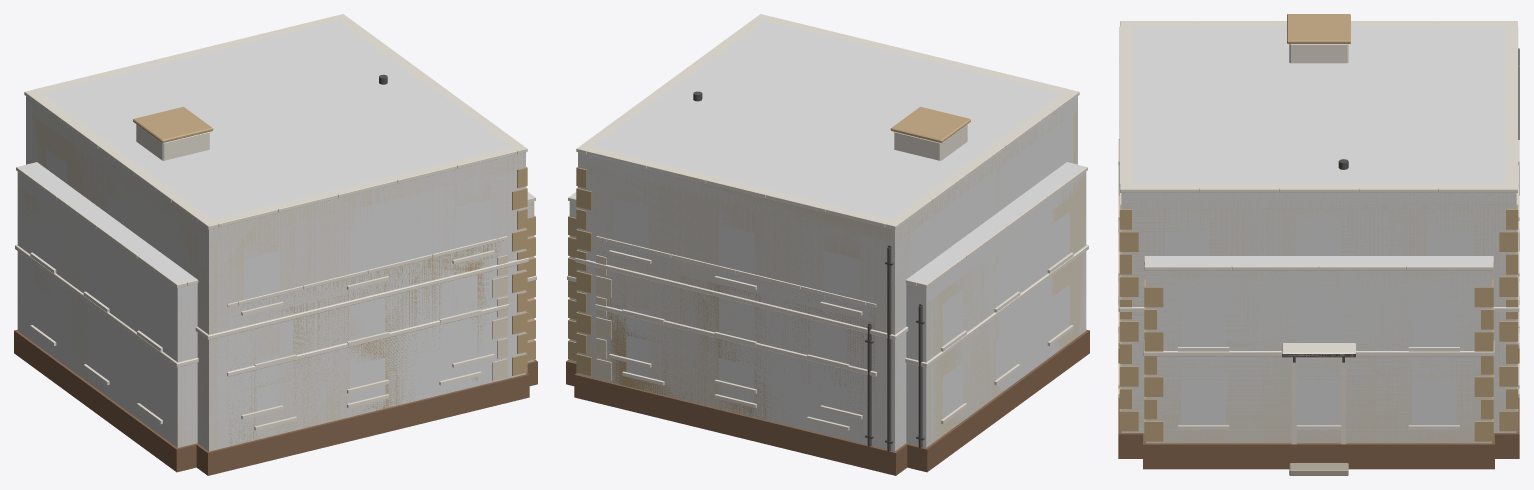
3 views of the same model, side by side, from view 1: azimuth 30°, elevation 25°; view 2: azimuth 150°, elevation 25°; view 3: azimuth 270°, elevation 25° (orthographic). The views are drawn at different scales.
Visible parts, largest first — view 1: col_T07_0, T07, col_T07_2, col_T07_1; view 2: col_T07_0, T07, col_T07_1, col_T07_2; view 3: col_T07_0, T07, col_T07_2.
Boxes of the visible parts, bbox=[...] form: col_T07_0: bbox=[26, 17, 525, 451]; T07: bbox=[14, 14, 537, 475]; col_T07_2: bbox=[17, 162, 534, 447]; col_T07_1: bbox=[229, 259, 444, 446]; col_T07_0: bbox=[578, 17, 1077, 451]; T07: bbox=[566, 14, 1089, 475]; col_T07_1: bbox=[598, 241, 874, 446]; col_T07_2: bbox=[569, 162, 1086, 447]; col_T07_0: bbox=[1121, 21, 1516, 432]; T07: bbox=[1118, 14, 1519, 475]; col_T07_2: bbox=[1146, 256, 1491, 443].
Size of the model in its own units: 9.56 by 6.53 by 8.12.
